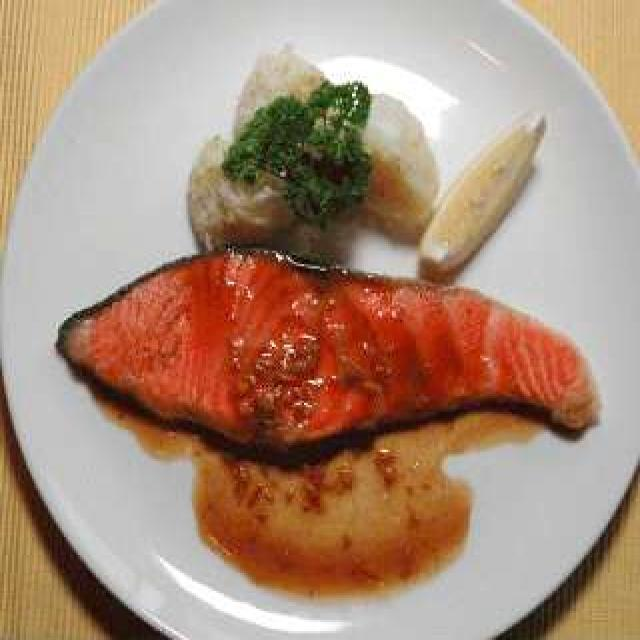熟制海鲜: (16, 45, 608, 591)
